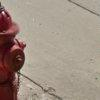Hydrant: (0, 4, 31, 99)
